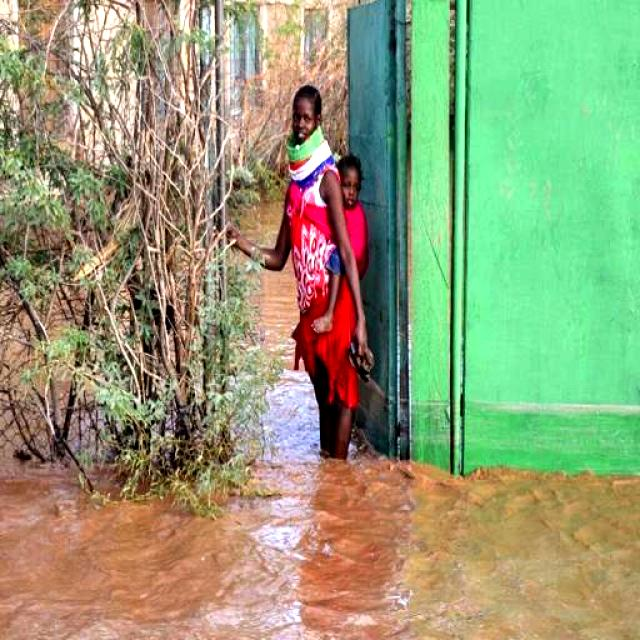civilian: (231, 75, 379, 484), (303, 148, 385, 345)
